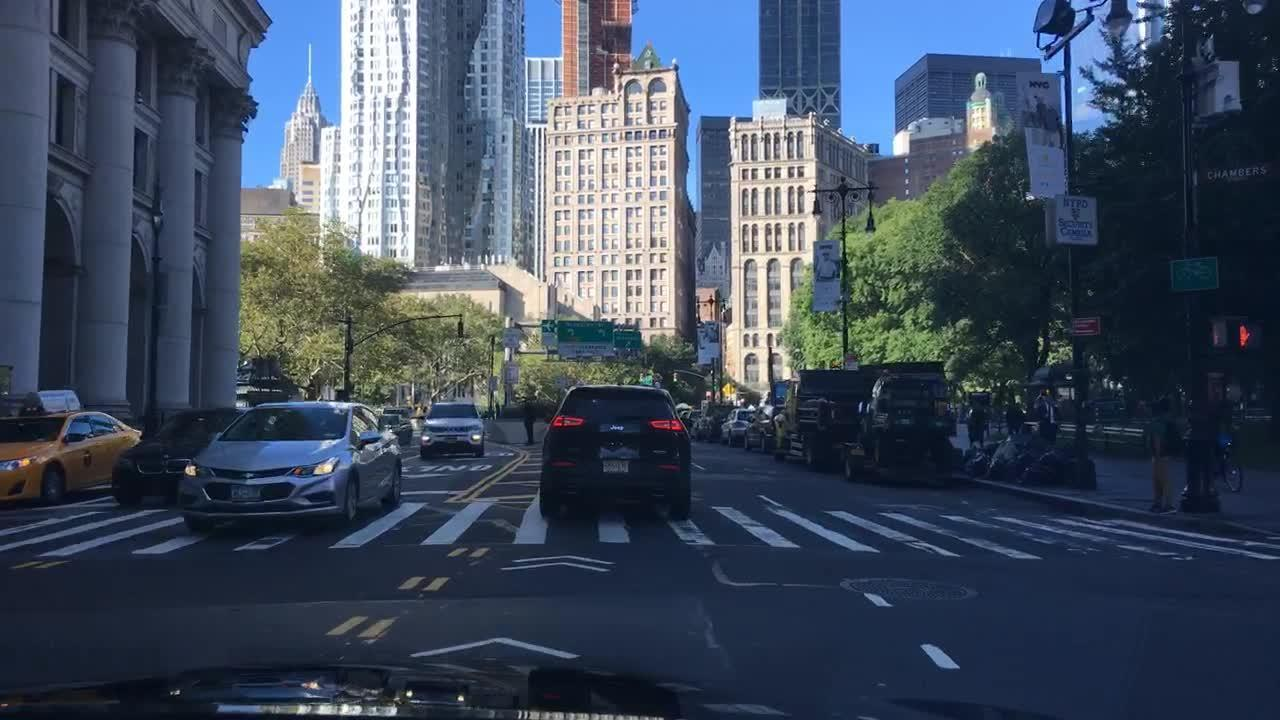chevrolet: (236, 467, 260, 482)
jeep: (605, 420, 628, 436)
